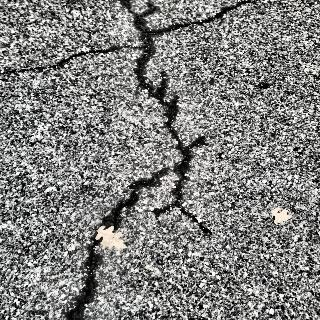crack: (60, 158, 162, 320), (114, 1, 187, 128), (166, 130, 218, 236), (1, 42, 111, 78), (189, 1, 260, 28)
